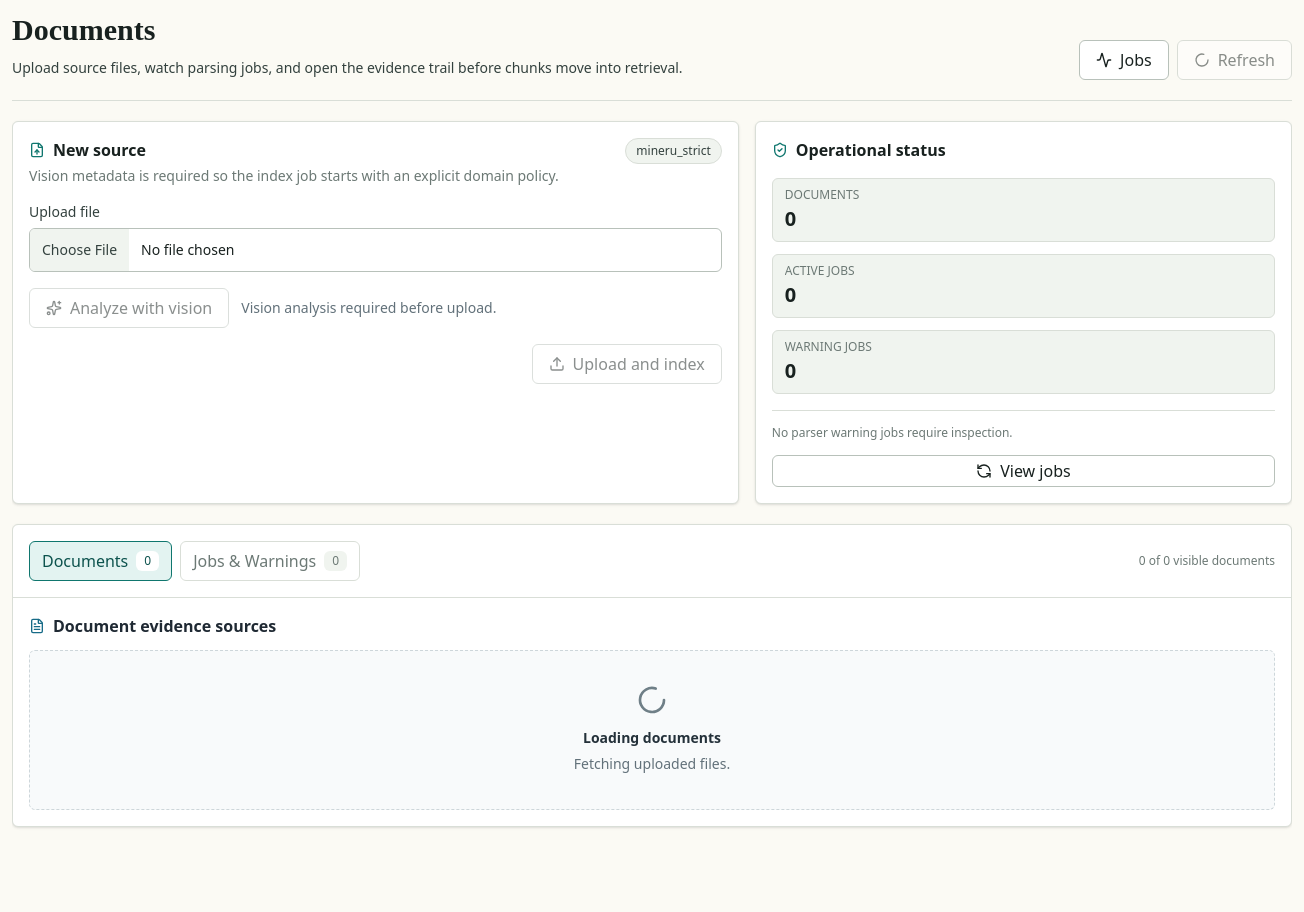
DocumentsPage › uses document filenames and MinerU progress in the jobs table
The image size is (1304, 912).
Click the tab "Jobs & Warnings 0".
click(270, 561)  # box [180, 541, 360, 581]
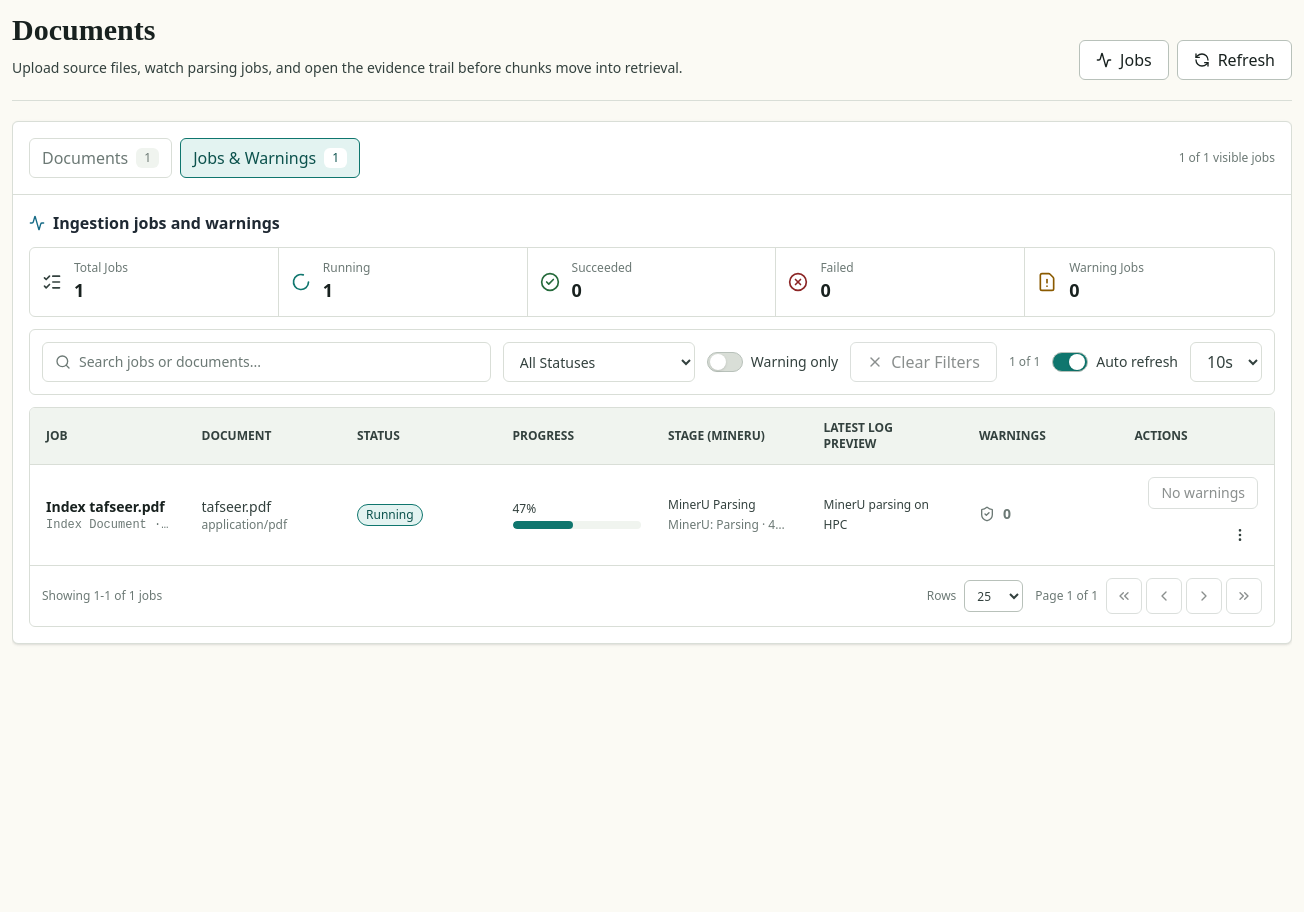
Expected: the text "Index tafseer.pdf" is shown, [46, 497, 170, 517]
Expected: the text "Index Document · job-1" is shown, [46, 517, 170, 533]
Expected: the text "47%" is shown, [512, 500, 536, 517]
